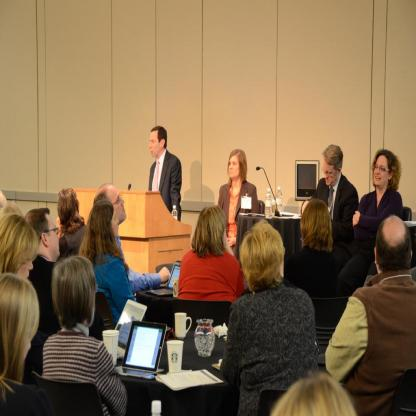board: (115, 322, 166, 376), (114, 298, 147, 360), (146, 261, 181, 297), (167, 340, 184, 374), (265, 189, 272, 218), (276, 186, 282, 218), (171, 205, 178, 220)
